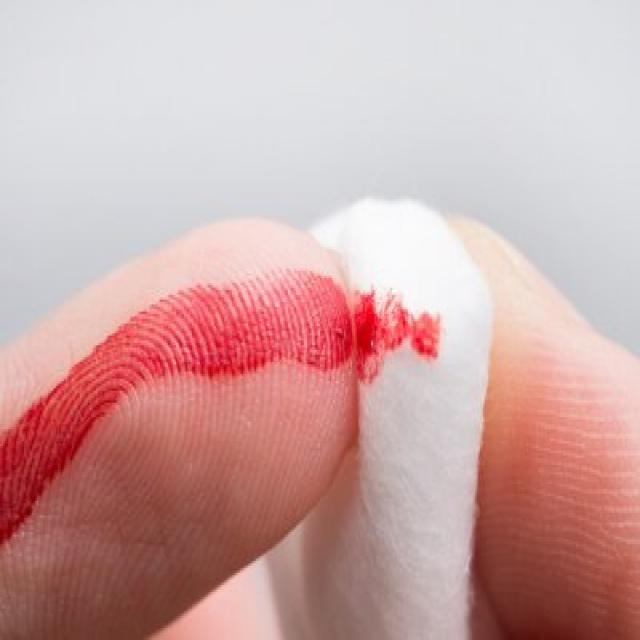B3: (350, 207, 480, 583)
